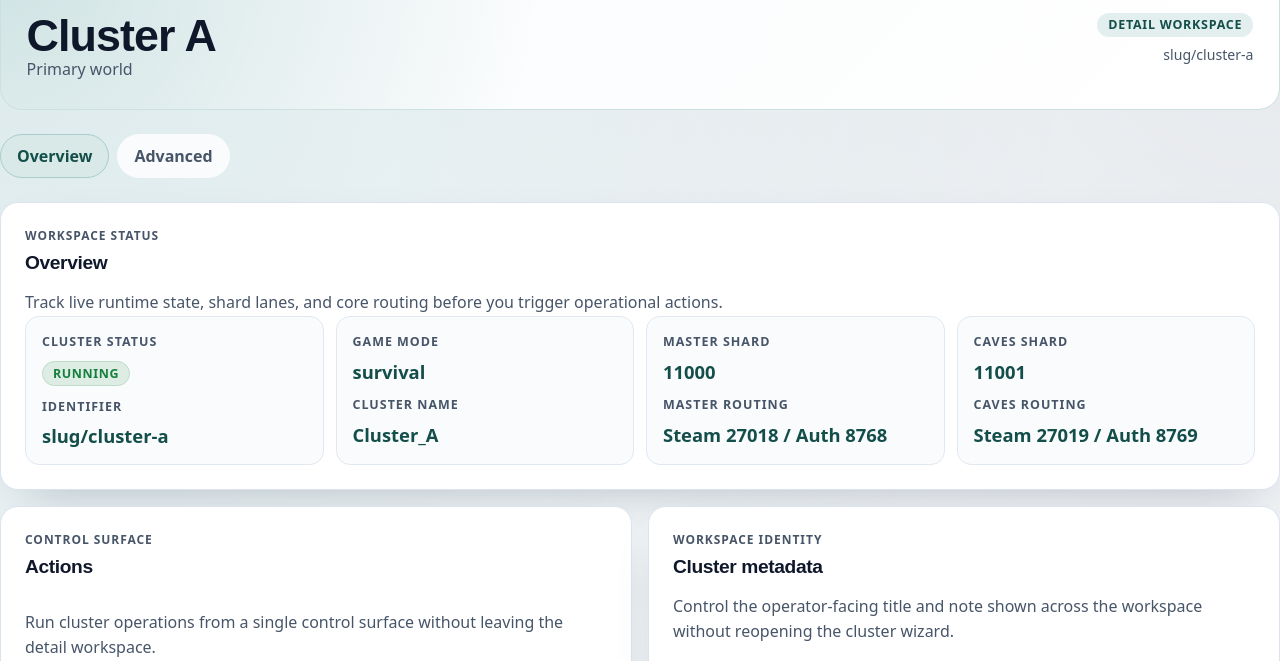
ClusterDetailPage › disables the raw save button while saving
The width and height of the screenshot is (1280, 661).
Click the button "Advanced".
click(174, 156)  # box [117,134,230,178]
(page scrolled)
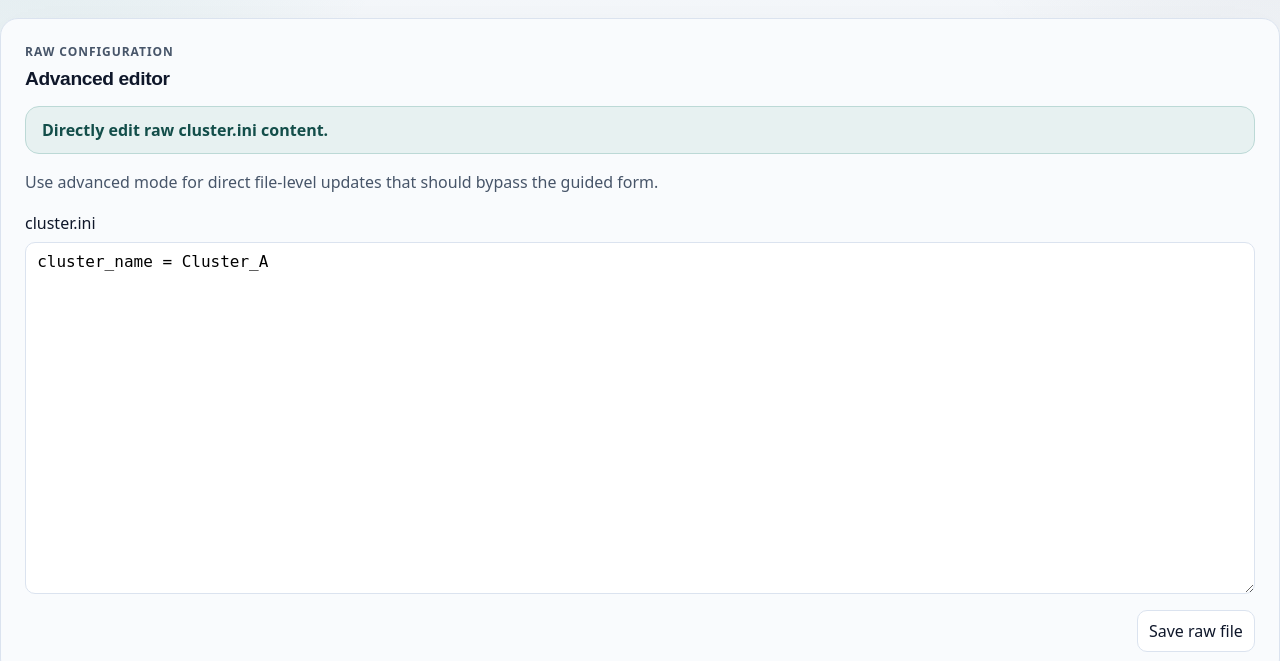
Click the button "Save raw file".
click(1196, 631)  # box [1137,610,1255,652]
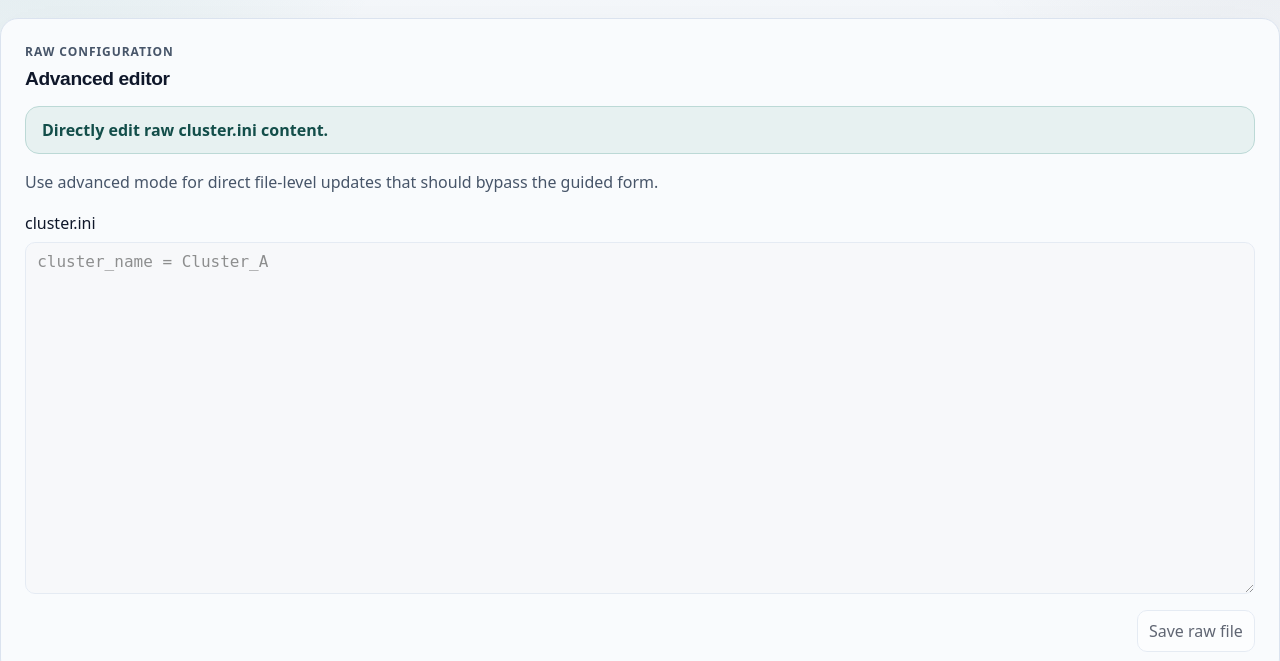
Now the button "Save raw file" is disabled, box [1137,610,1255,652]
